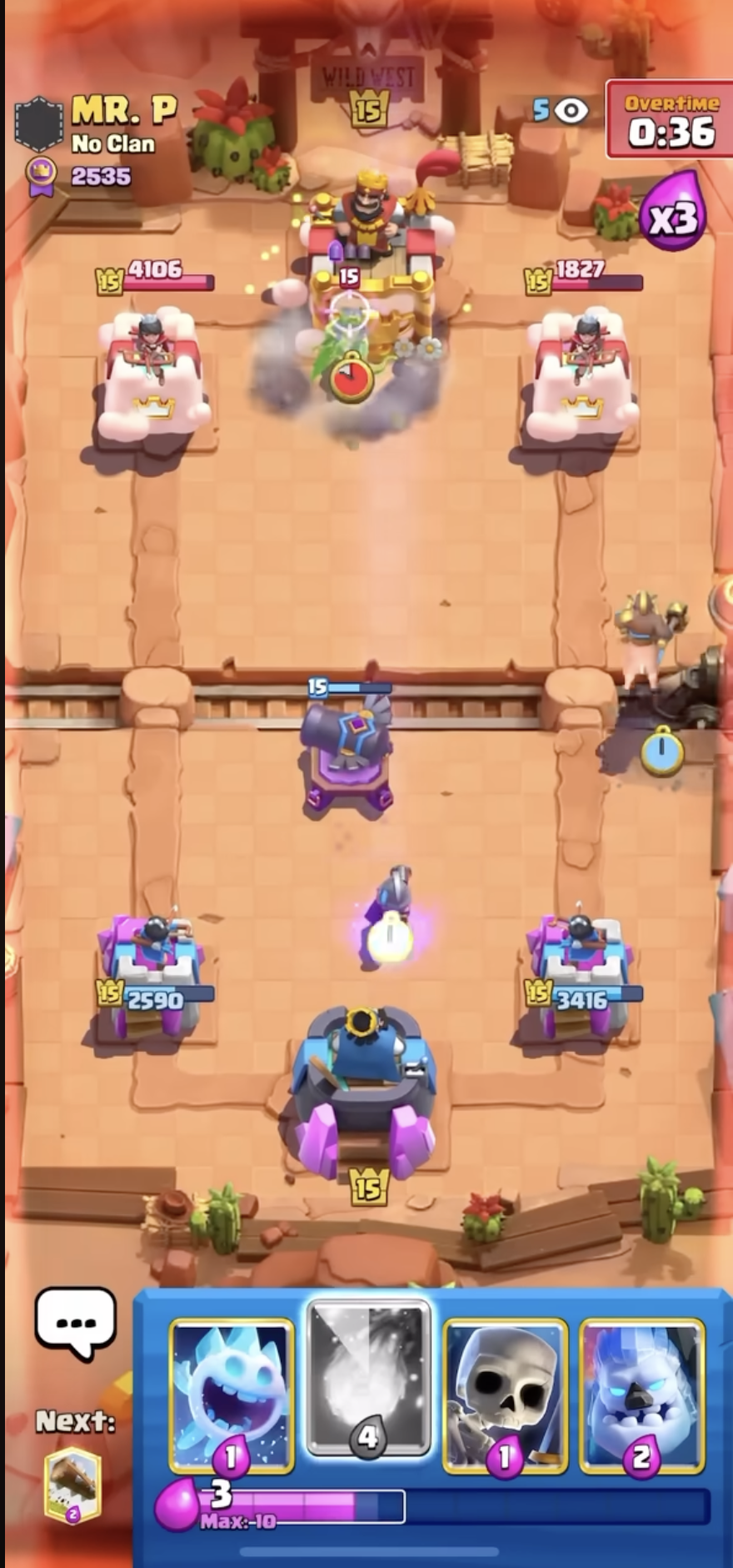evo_cannon: (289, 673, 406, 833)
evo_musketeer: (355, 848, 427, 971)
hog_rider: (608, 573, 703, 724)
